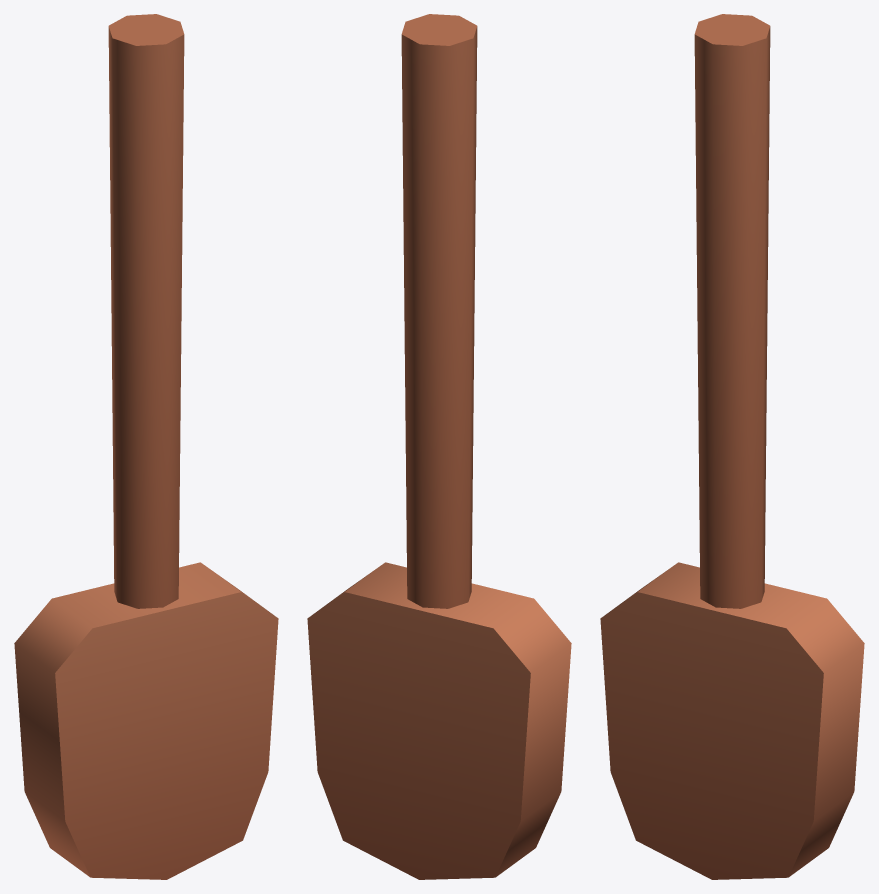
File: paddle.glb
3 views of the same model, side by side, from view 1: azimuth 30°, elevation 25°; view 2: azimuth 150°, elevation 25°; view 3: azimuth 330°, elevation 25° (orthographic).
Parts seen in each view (by area): view 1: tool-paddle; view 2: tool-paddle; view 3: tool-paddle.
Part boxes in pixels (bbox=[...]): tool-paddle: bbox=[14, 14, 278, 879]; tool-paddle: bbox=[307, 14, 571, 879]; tool-paddle: bbox=[600, 14, 864, 879].
Size of the model in its own units: 0.6578 by 2.35 by 0.2075.
